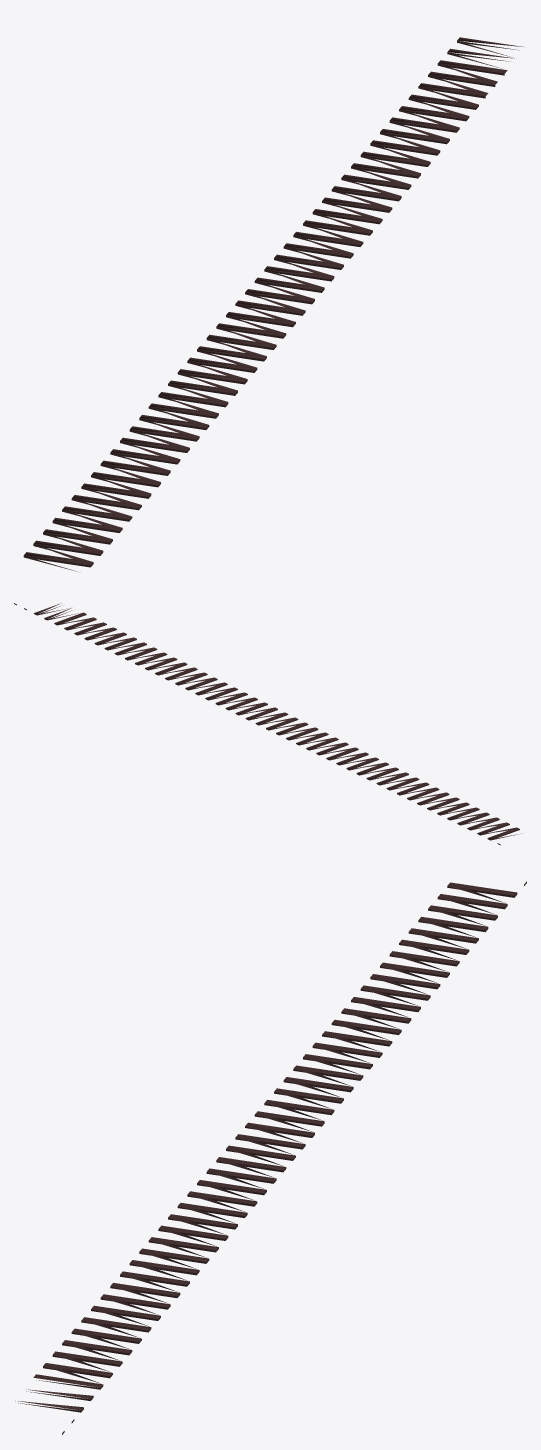
3 renders of one model, top to bottom at view 1: azimuth 90°, elevation 25°; view 2: azimuth 150°, elevation 25°; view 3: azimuth 270°, elevation 25°, orthographic. The views are drawn at different scales.
Size of the model in its own units: 39.62 by 0.064 by 15.36.
